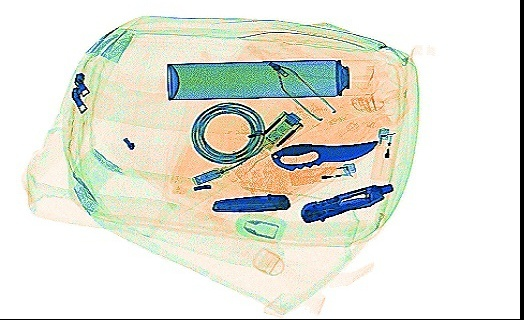knife: (298, 181, 393, 223), (267, 136, 378, 170), (210, 191, 290, 213)
lighter: (287, 159, 355, 187), (369, 124, 397, 182)
pressure: (164, 56, 378, 100)
